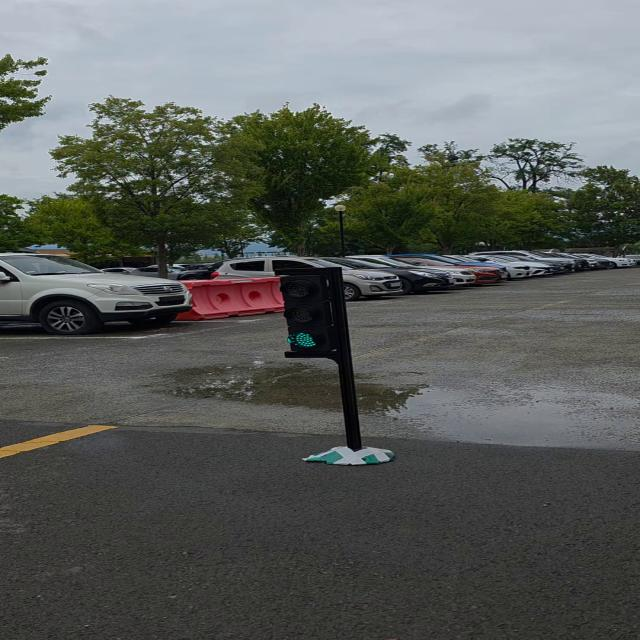green: (279, 268, 351, 359)
